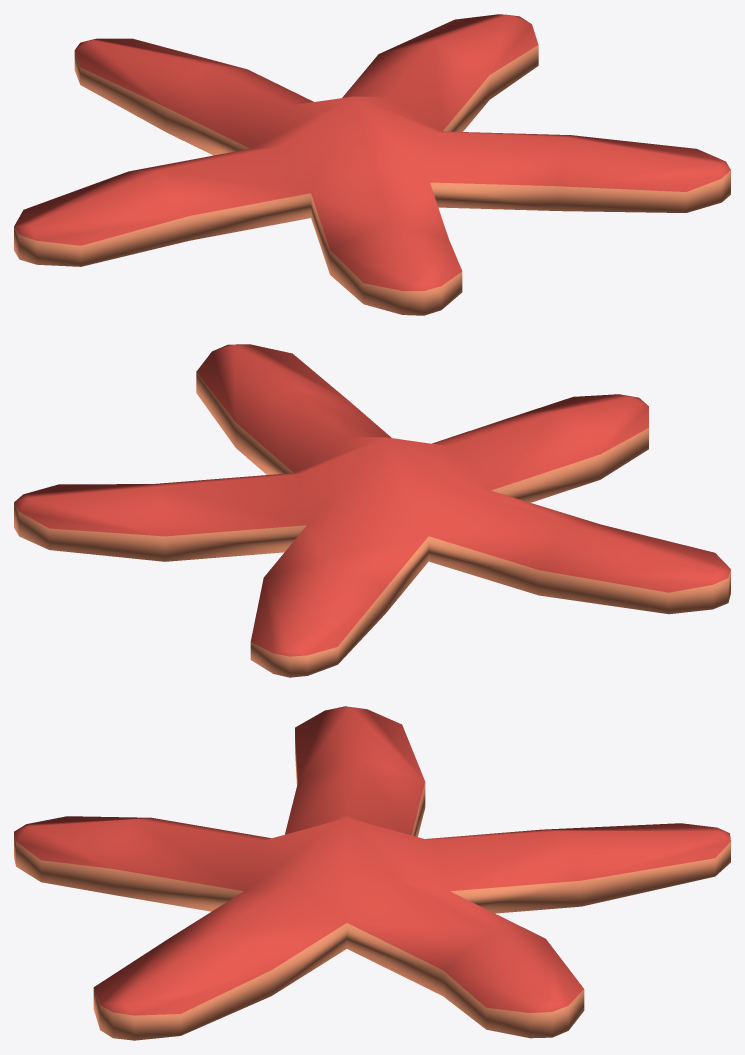
The model's file is Starfish_01.glb.
3 views of the same model, one above another, from view 1: azimuth 30°, elevation 25°; view 2: azimuth 150°, elevation 25°; view 3: azimuth 270°, elevation 25° (orthographic). The views are drawn at different scales.
Parts seen in each view (by area): view 1: Starfish_01; view 2: Starfish_01; view 3: Starfish_01.
Part boxes in pixels (<box>): Starfish_01: <box>14,14,730,315</box>; Starfish_01: <box>14,344,730,677</box>; Starfish_01: <box>14,706,730,1040</box>.
Size of what is drawn, in the model's own units: 0.5425 by 0.0698 by 0.5323.
1 material, 1 textured.
